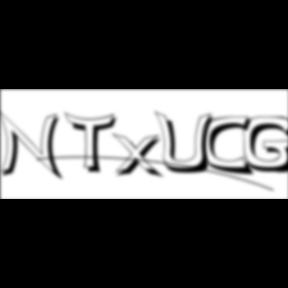C: (202, 115, 258, 178)
N: (0, 109, 68, 183)
T: (65, 112, 123, 176)
U: (154, 110, 220, 176)
x: (112, 132, 168, 181)
